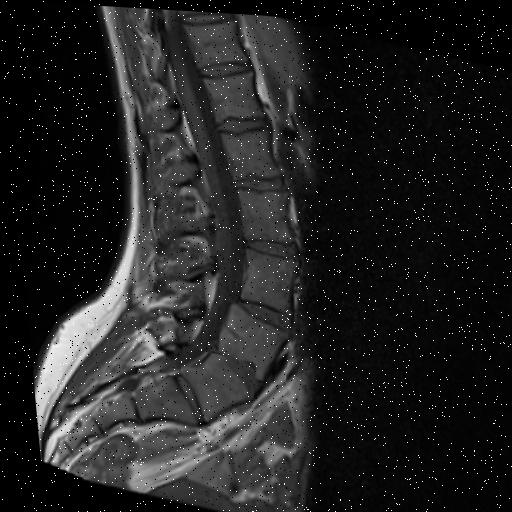L1: (219, 126, 273, 174)
L2: (234, 186, 287, 237)
L3: (235, 247, 292, 312)
L4: (211, 299, 283, 378)
L5: (173, 350, 246, 418)
S1: (127, 374, 191, 423)
